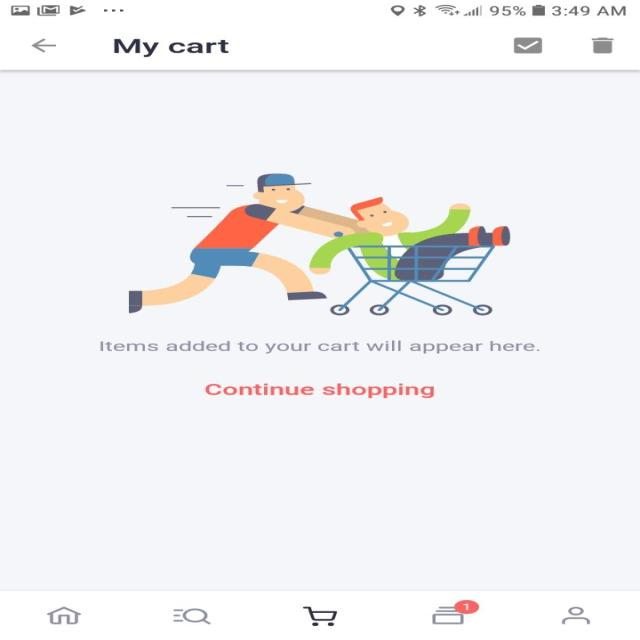Icon: (431, 599, 479, 624), (301, 606, 337, 626), (47, 605, 82, 624), (172, 608, 210, 624), (560, 606, 590, 624), (512, 37, 542, 54), (590, 37, 614, 54), (31, 38, 57, 53)
Image: (128, 173, 510, 316)
Text: (100, 340, 540, 354), (204, 383, 434, 398), (113, 39, 228, 57)
